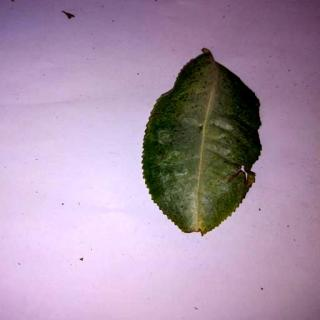Anthracnose: (144, 51, 264, 237)
